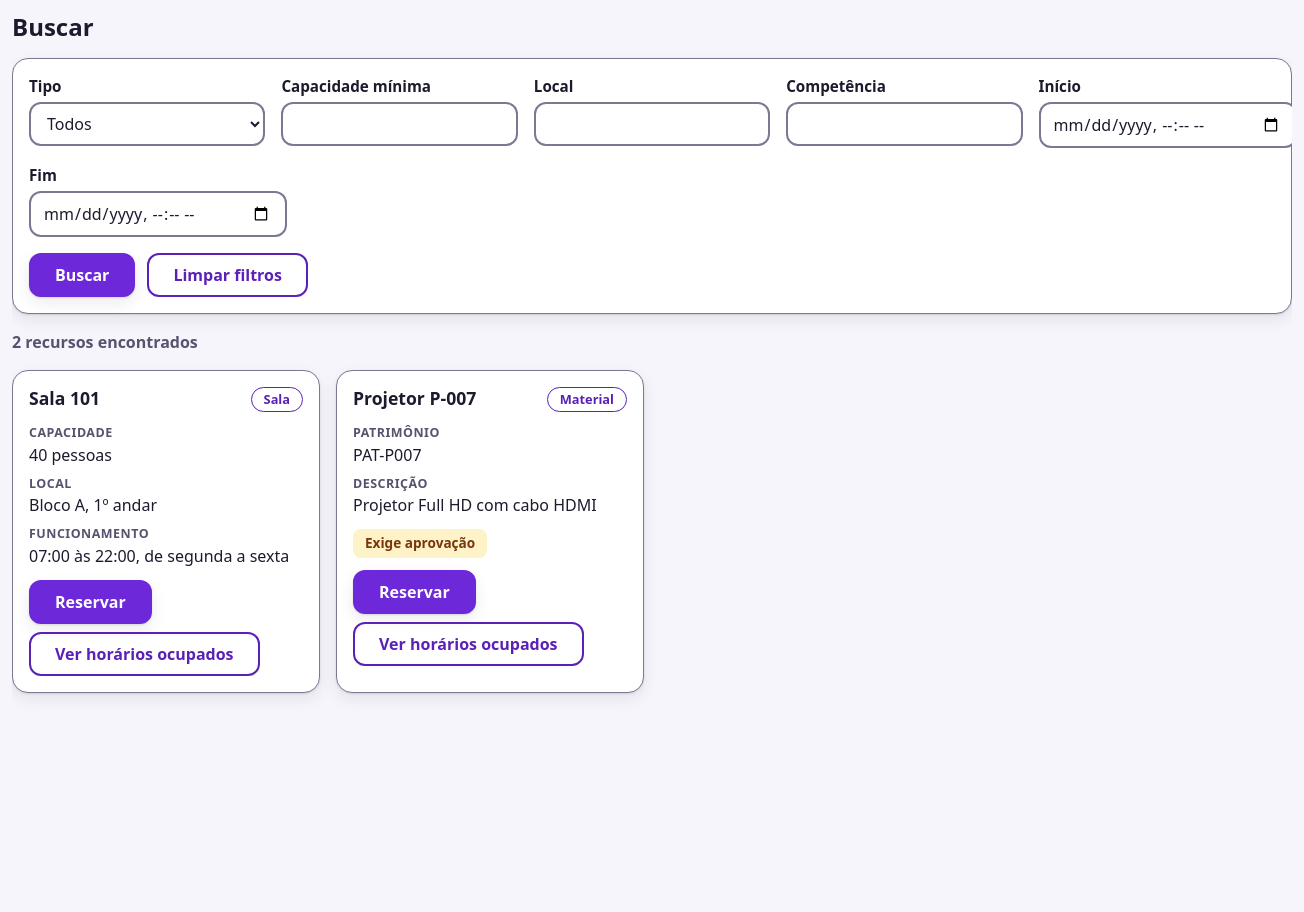
PaginaDeBusca: ações de cada recurso › clicar de novo recolhe a lista
Expected: the text "2 recursos encontrados" is shown, [12, 331, 198, 353]
Click the button "Ver horários ocupados" below "07:00". click: (144, 654)
box: [29, 632, 260, 676]
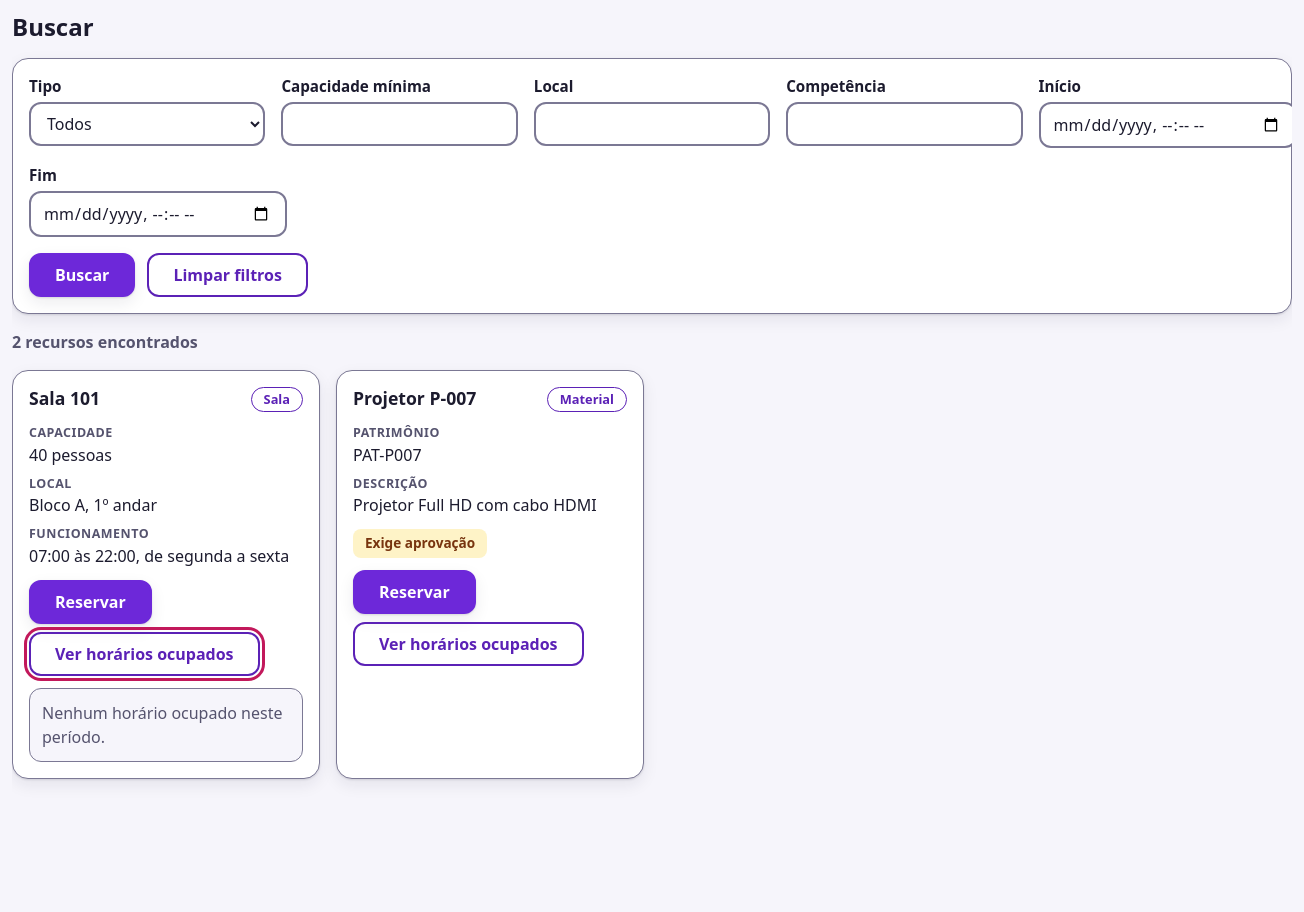
Now the text "Nenhum horário ocupado neste período." is shown, box [42, 701, 290, 749]
Click the button "Ver horários ocupados" below "07:00". click: (144, 654)
box: [29, 632, 260, 676]
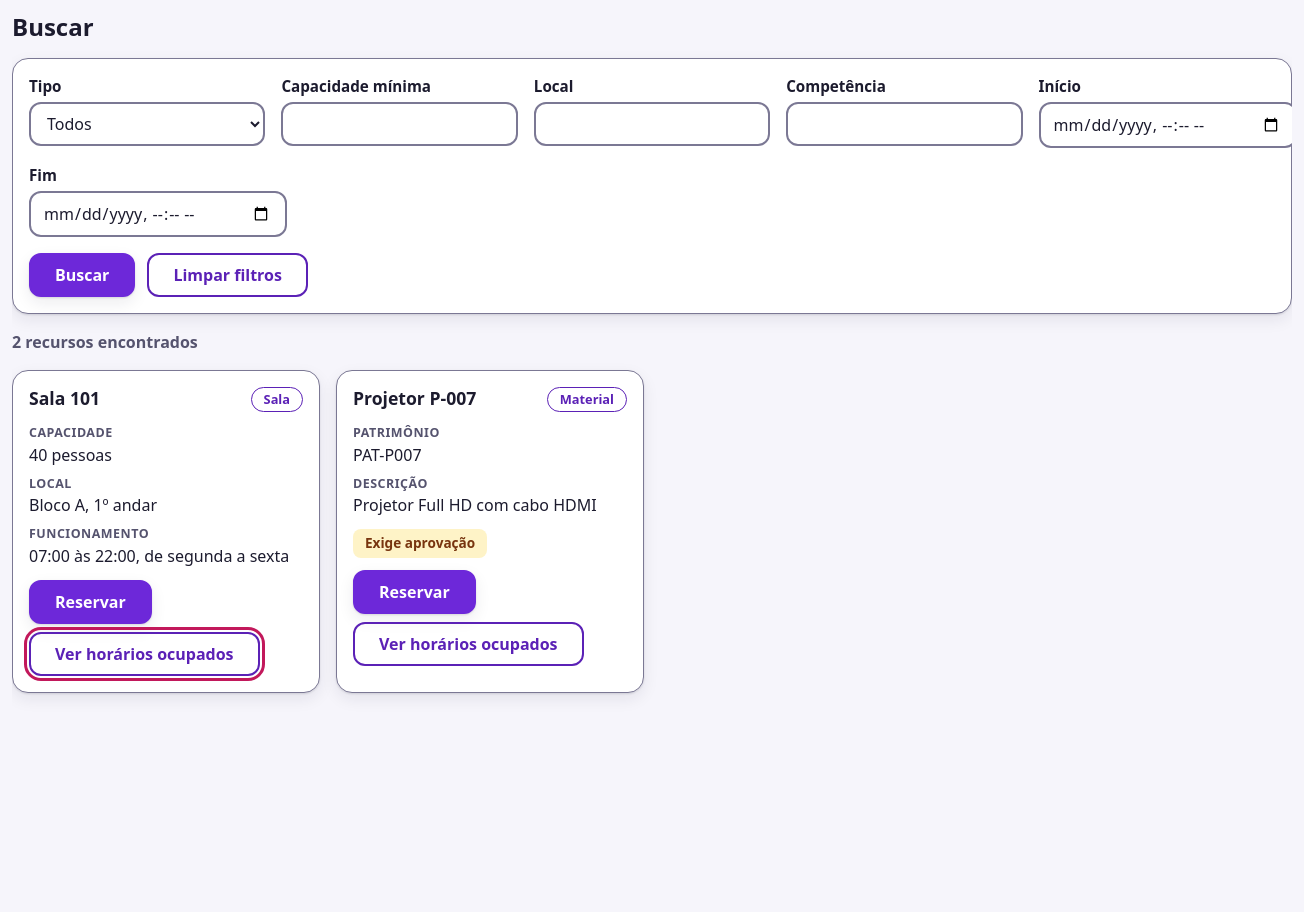
Now the text "Nenhum horário ocupado neste período." is gone
